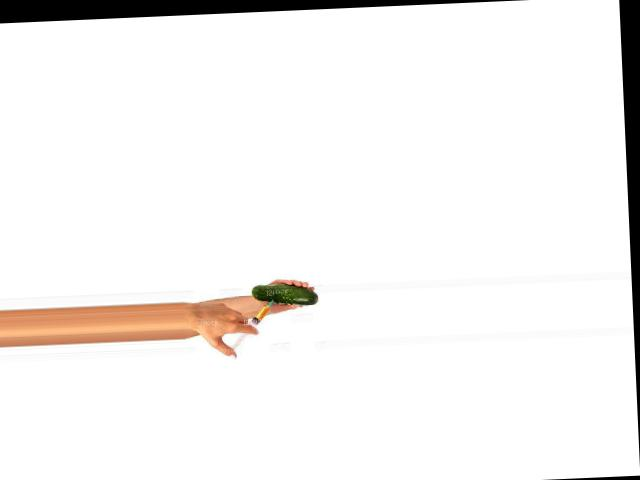cucumber: (252, 283, 319, 307)
